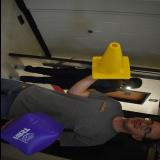cone: (90, 42, 130, 80)
cube: (0, 111, 64, 157)
